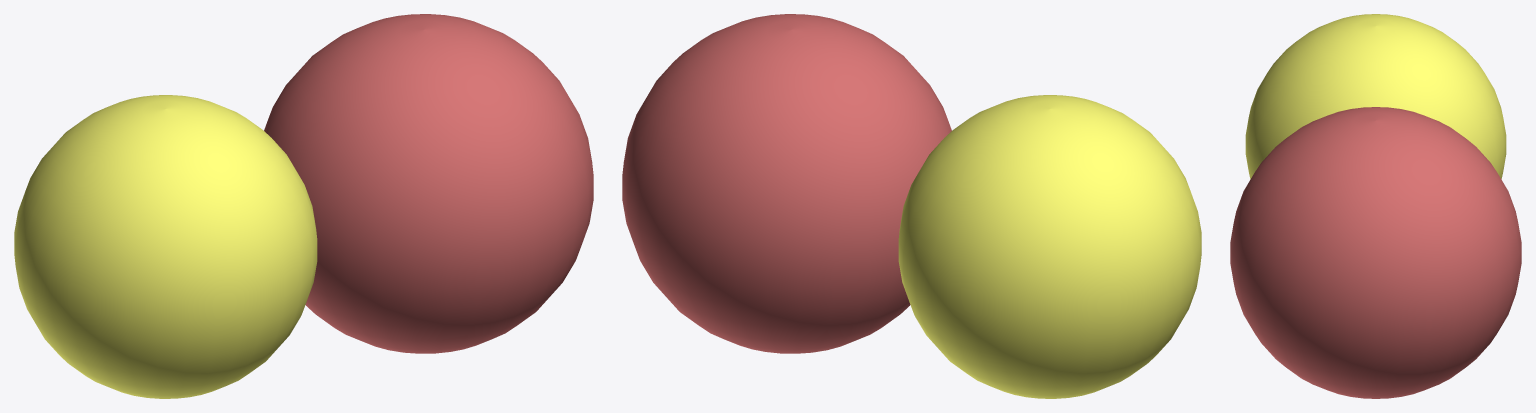
The model's file is sulfur.fbx.
The picture shows the model from 3 angles, left to right: view 1: azimuth 30°, elevation 25°; view 2: azimuth 150°, elevation 25°; view 3: azimuth 270°, elevation 25°; orthographic projection. The views are drawn at different scales.
Parts seen in each view (by area): view 1: Bromine_ball, Sulfur_ball; view 2: Bromine_ball, Sulfur_ball; view 3: Bromine_ball, Sulfur_ball.
Boxes of the visible parts, x1=… form: Bromine_ball: x1=264, y1=14, x2=593, y2=353; Sulfur_ball: x1=14, y1=95, x2=317, y2=398; Bromine_ball: x1=622, y1=14, x2=951, y2=353; Sulfur_ball: x1=898, y1=95, x2=1201, y2=398; Bromine_ball: x1=1230, y1=107, x2=1521, y2=398; Sulfur_ball: x1=1245, y1=14, x2=1506, y2=179.
Size of the model in its own units: 415 by 228 by 227.
